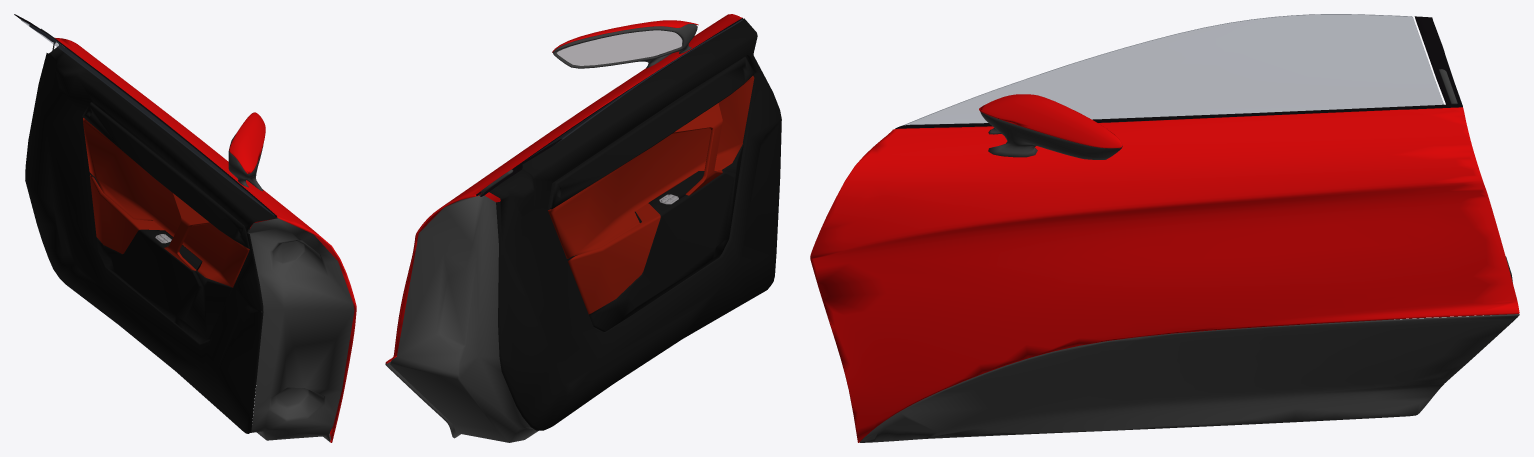
3 views of the same model, side by side, from view 1: azimuth 30°, elevation 25°; view 2: azimuth 150°, elevation 25°; view 3: azimuth 270°, elevation 25° (orthographic). The views are drawn at different scales.
Visible parts, largest first — view 1: InteriorDoorL01, InteriorDoorL04, BodyDoorLColor1, BodyDoorLWindow, BodyDoorLHandle01, BodyDoorLColor2; view 2: InteriorDoorL01, InteriorDoorL04, BodyDoorLColor1, BodyDoorLMirror, BodyDoorLColor2, BodyDoorLHandle01, BodyDoorLWindow; view 3: BodyDoorLColor1, BodyDoorLColor2, BodyDoorLWindow, BodyDoorLHandle01.
Boxes of the visible parts, box(x1,y1,x2,y2) form: InteriorDoorL01: box(25, 42, 354, 440); InteriorDoorL04: box(83, 118, 249, 287); BodyDoorLColor1: box(54, 37, 356, 442); BodyDoorLWindow: box(21, 20, 274, 215); BodyDoorLHandle01: box(14, 14, 276, 216); BodyDoorLColor2: box(41, 28, 330, 442); InteriorDoorL01: box(390, 18, 781, 442); InteriorDoorL04: box(548, 76, 754, 314); BodyDoorLColor1: box(385, 14, 742, 363); BodyDoorLMirror: box(557, 30, 682, 65); BodyDoorLColor2: box(385, 24, 697, 438); BodyDoorLHandle01: box(476, 18, 742, 196); BodyDoorLWindow: box(530, 19, 742, 157); BodyDoorLColor1: box(810, 94, 1519, 442); BodyDoorLColor2: box(859, 69, 1519, 442); BodyDoorLWindow: box(904, 14, 1443, 125); BodyDoorLHandle01: box(895, 16, 1462, 128).
Size of the model in its own units: 0.4344 by 0.9591 by 1.67.
Materials: 9 (1 with a texture image).
